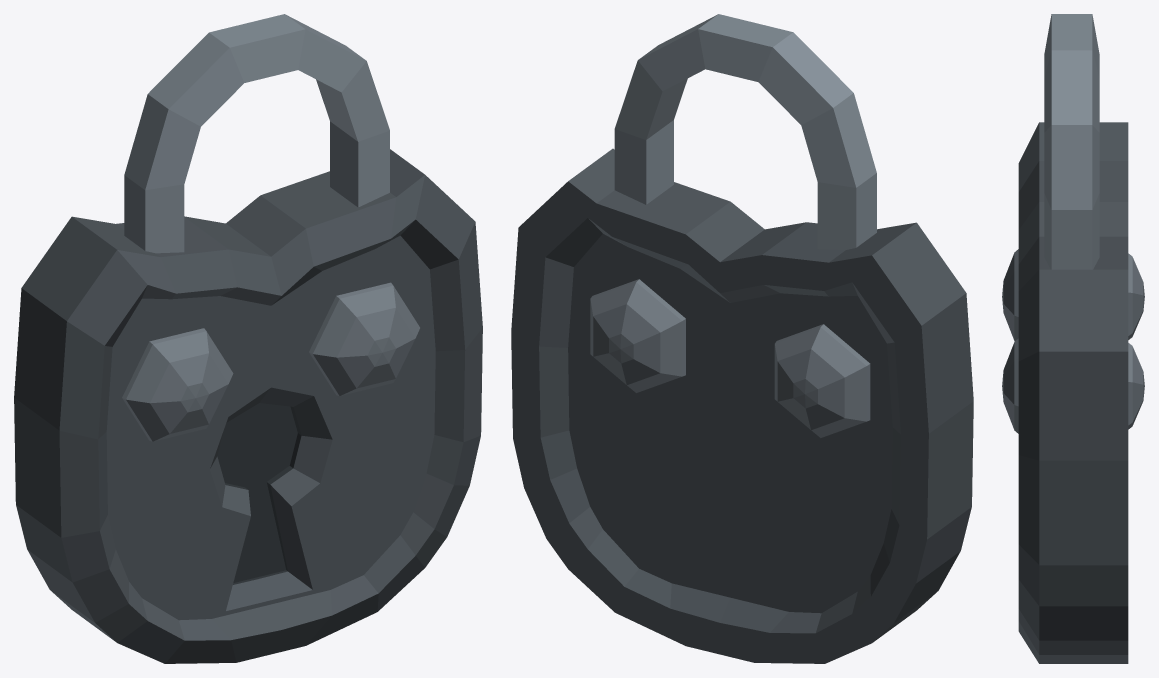
The model's file is WF_LP_HT_Props_Key.002.fbx.
3 views of the same model, side by side, from view 1: azimuth 30°, elevation 25°; view 2: azimuth 150°, elevation 25°; view 3: azimuth 270°, elevation 25° (orthographic). The views are drawn at different scales.
Parts seen in each view (by area): view 1: WF_LP_HT_Props_Key.002; view 2: WF_LP_HT_Props_Key.002; view 3: WF_LP_HT_Props_Key.002.
Part boxes in pixels (<box>): WF_LP_HT_Props_Key.002: <box>14,14,482,663</box>; WF_LP_HT_Props_Key.002: <box>511,14,973,663</box>; WF_LP_HT_Props_Key.002: <box>1002,14,1144,663</box>.
Size of the model in its own units: 0.1422 by 0.196 by 0.0424.
